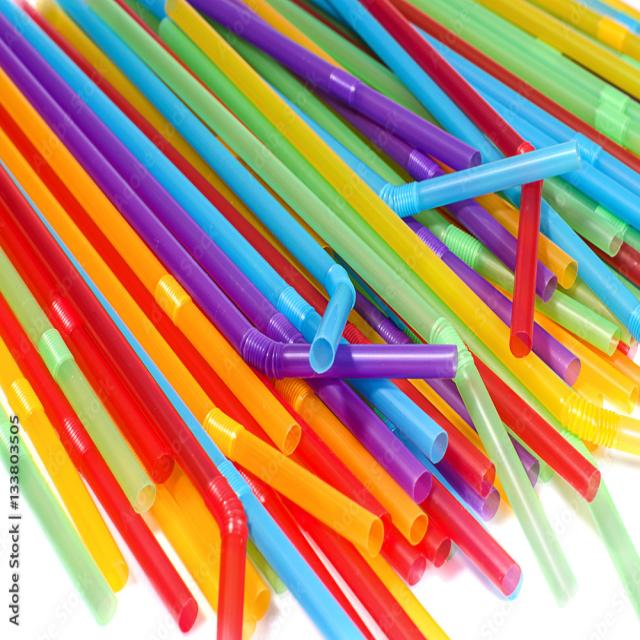plastic: (140, 0, 375, 428)
